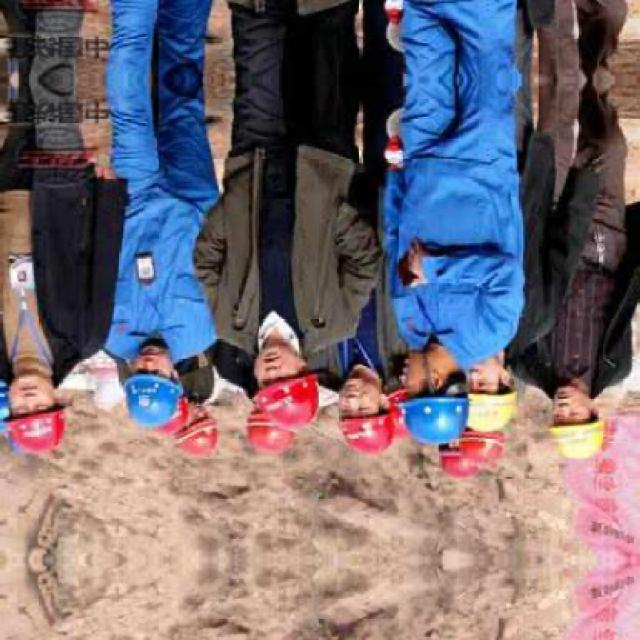con casco: (220, 316, 338, 424), (519, 362, 636, 463), (0, 370, 99, 470), (386, 342, 474, 443), (426, 359, 530, 432), (115, 346, 193, 432), (338, 375, 403, 476), (147, 404, 228, 462), (237, 407, 309, 455)
